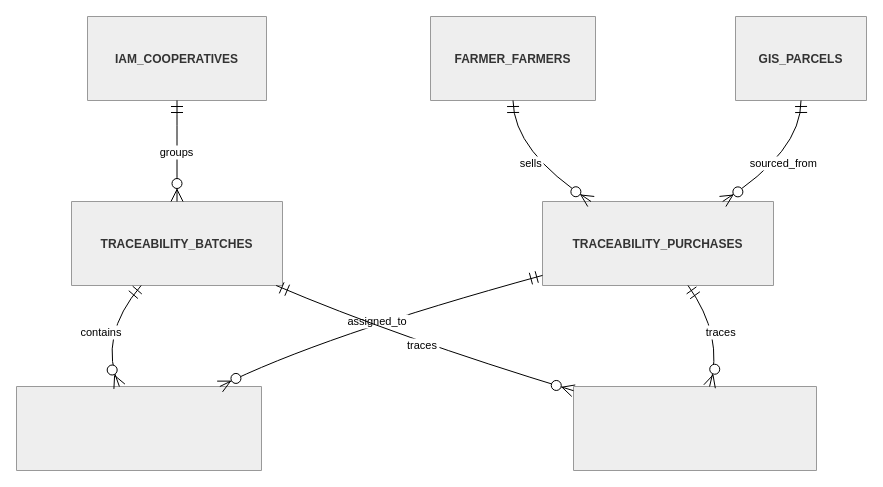
The diagram is 883 pixels wide and 487 high, and some of its shapes have lost their labels. The shapes that lost their labels are listed below. From the top down, each one's centre as x and y in pixels, then its label:
At point (139, 428): "TRACEABILITY_BATCH_ITEMS".
At point (694, 428): "TRACEABILITY_TRACE_LINKS".
